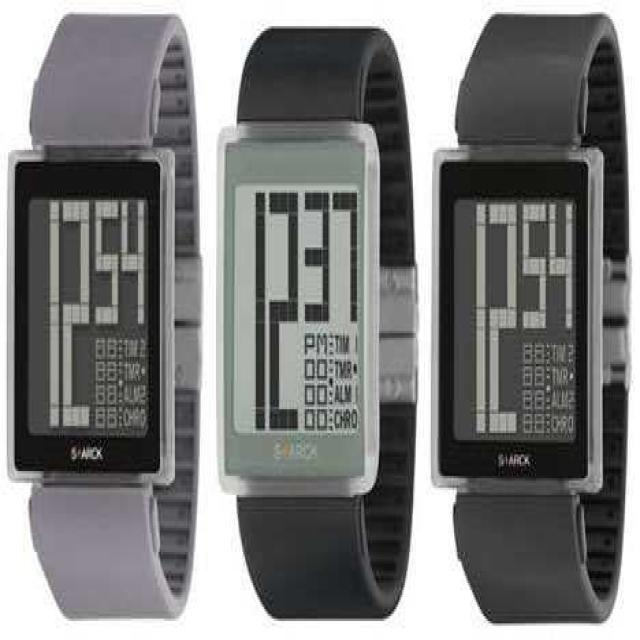watch: (14, 161, 172, 473)
